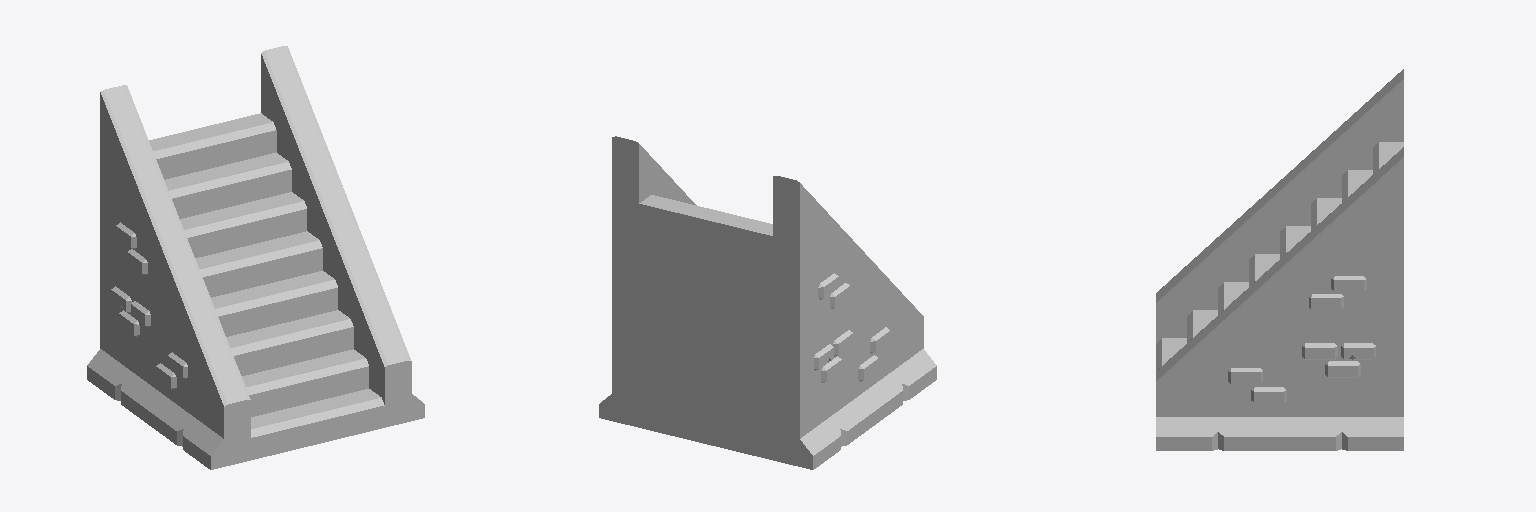
Rendered from stairs_narrow.obj.
3 renders of one model, left to right at view 1: azimuth 30°, elevation 25°; view 2: azimuth 150°, elevation 25°; view 3: azimuth 270°, elevation 25°, orthographic.
Parts seen in each view (by area): view 1: stairs_narrow; view 2: stairs_narrow; view 3: stairs_narrow.
Part boxes in pixels (x1,y1,x2,y2): stairs_narrow: (87, 46, 424, 469); stairs_narrow: (599, 136, 936, 469); stairs_narrow: (1156, 69, 1403, 450).
Bounding box in the file's own units: 4 × 5.1 × 4.